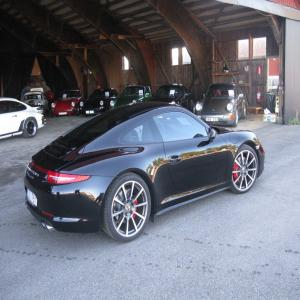Vehicle-registration-plate: (27, 191, 38, 207), (207, 119, 219, 122), (60, 114, 67, 116), (87, 112, 94, 114)
